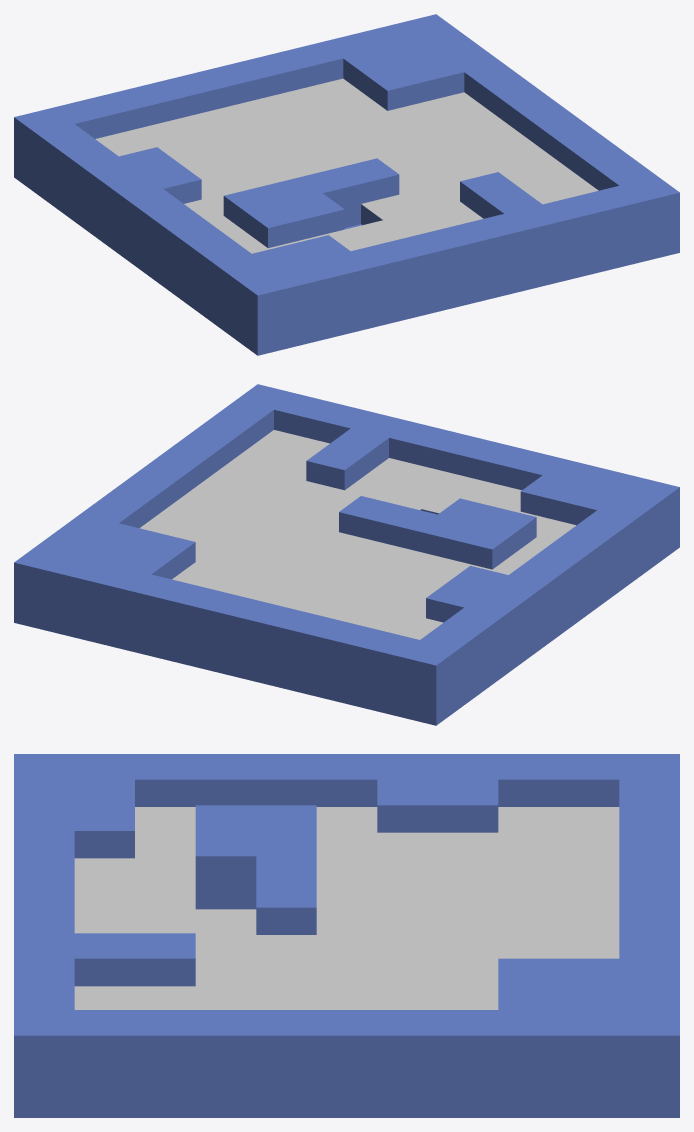
The model's file is 018_platform.fbx.
3 renders of one model, top to bottom at view 1: azimuth 30°, elevation 25°; view 2: azimuth 150°, elevation 25°; view 3: azimuth 270°, elevation 25°, orthographic. The views are drawn at different scales.
Visible parts, largest first — view 1: Cube; view 2: Cube; view 3: Cube.
Boxes of the visible parts, <box> form: Cube: <box>14,14,679,355</box>; Cube: <box>14,384,679,725</box>; Cube: <box>14,754,679,1117</box>.
Bounding box in the file's own units: 1100 × 150 × 1100.
